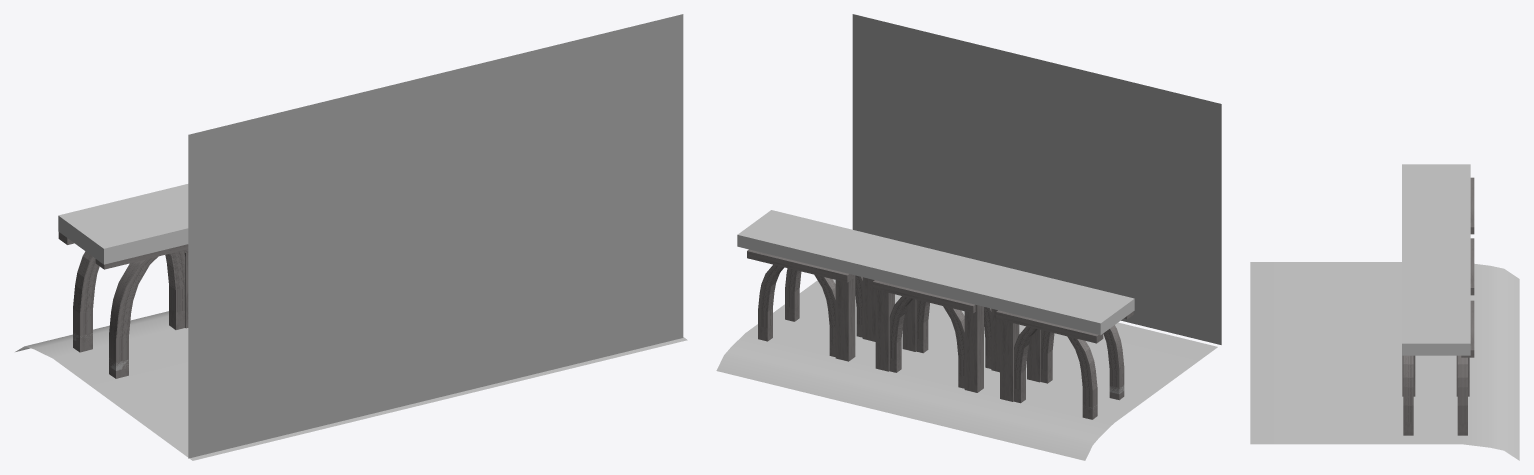
Rendered from modulo-viaduto-2.fbx.
The picture shows the model from 3 angles, left to right: view 1: azimuth 30°, elevation 25°; view 2: azimuth 150°, elevation 25°; view 3: azimuth 270°, elevation 25°; orthographic projection. The views are drawn at different scales.
Visible parts, largest first — view 1: pasted__pasted__pPlane2, pasted__pasted__pasted__pasted__pPlane2, polySurface362, polySurface433, polySurface401, polySurface403; view 2: pasted__pasted__pPlane2, pasted__pasted__pasted__pasted__pPlane2, polySurface362, pasted__polySurface360 (×2), polySurface365, polySurface420, polySurface401, polySurface418, polySurface402, polySurface364, polySurface433, polySurface360 (+11 smaller); view 3: pasted__pasted__pasted__pasted__pPlane2, polySurface362, polySurface376, polySurface364, pasted__polySurface360 (×2), polySurface360.
Part boxes in pixels (<box>): pasted__pasted__pPlane2: <box>188,14,683,458</box>; pasted__pasted__pasted__pasted__pPlane2: <box>15,311,687,460</box>; polySurface362: <box>58,184,188,264</box>; polySurface433: <box>109,256,158,378</box>; polySurface401: <box>73,251,99,352</box>; polySurface403: <box>165,251,185,329</box>; pasted__pasted__pPlane2: <box>852,14,1221,344</box>; pasted__pasted__pasted__pasted__pPlane2: <box>716,279,1217,460</box>; polySurface362: <box>737,210,1134,335</box>; pasted__polySurface360 (×2): <box>747,249,975,313</box>; polySurface365: <box>835,275,855,361</box>; polySurface420: <box>964,305,983,392</box>; polySurface401: <box>1067,336,1097,419</box>; polySurface418: <box>875,289,894,371</box>; polySurface402: <box>1000,320,1019,401</box>; polySurface364: <box>758,264,784,341</box>; polySurface433: <box>1103,325,1124,400</box>; polySurface360: <box>996,310,1103,343</box>; pasted__pasted__pasted__pasted__pPlane2: <box>1250,262,1519,460</box>; polySurface362: <box>1402,164,1470,355</box>; polySurface376: <box>1403,355,1413,435</box>; polySurface364: <box>1457,355,1467,435</box>; pasted__polySurface360 (×2): <box>1461,238,1474,357</box>; polySurface360: <box>1470,177,1474,234</box>.
Bounding box in the file's own units: 163 × 108 × 100.
